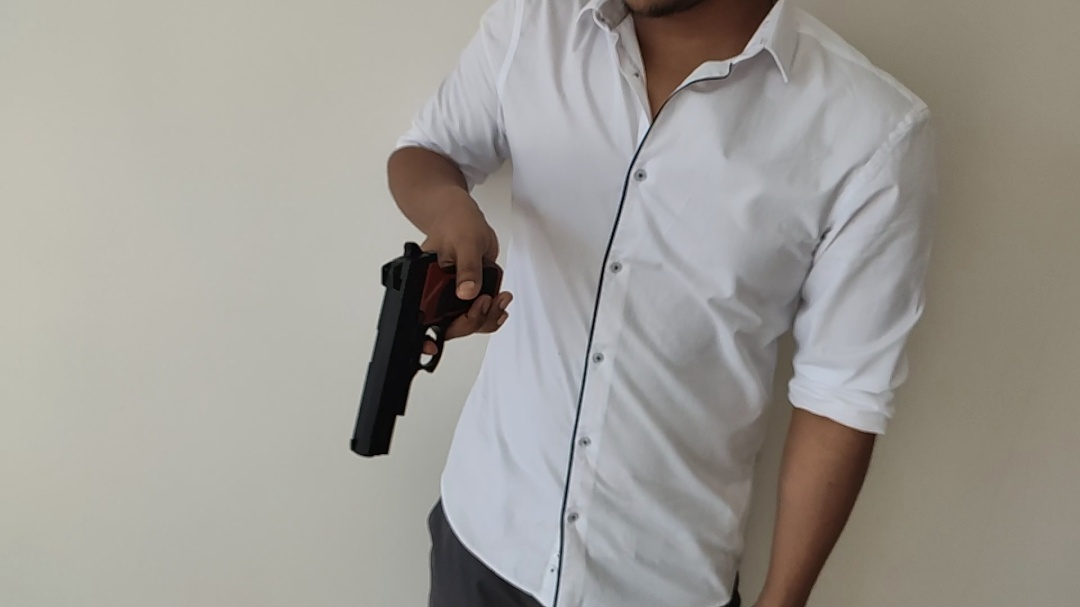gun: (312, 109, 924, 545)
